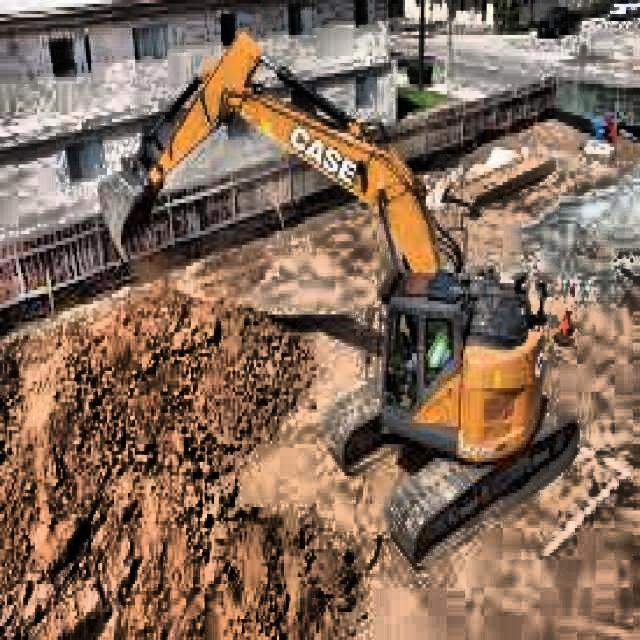bull_dozer/loader/grader: (93, 22, 582, 582)
person: (423, 322, 452, 371)
